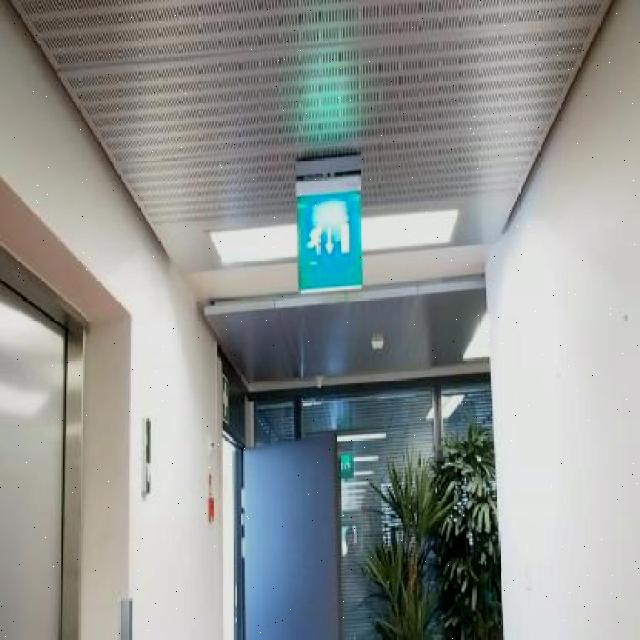emergency_exit: (295, 181, 364, 293), (339, 452, 354, 480)
